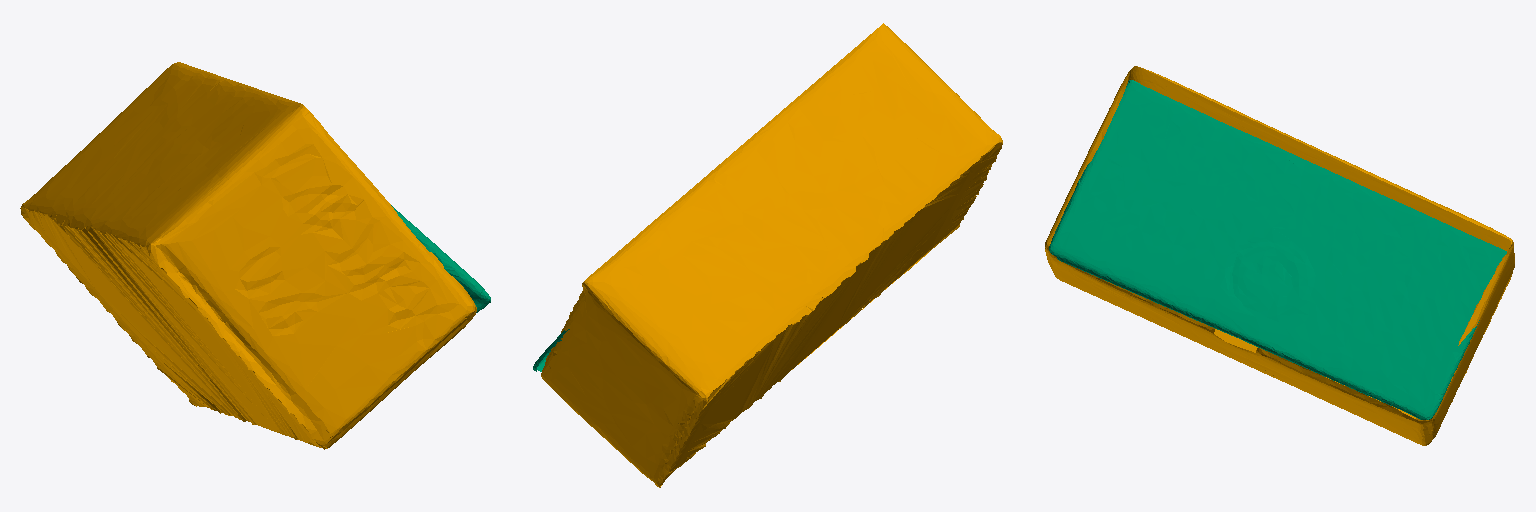
The robot description file, URDF, robot "cardboardbox":
<?xml version="1.0"?>
<robot name="cardboardbox">
  <link name ="rb0">
    <visual>
      <origin xyz='-0.027407 0.084609 -0.158119' rpy='-2.485075 -0.345284 -1.851911'/>
      <geometry>
        <mesh filename="package://articulated_objects_db/data/objects/cardboardbox/meshes/cardboardbox_bottom.obj"  scale="1 1 1" />
      </geometry>
    </visual>
  </link>
  <joint name="j_0_1" type="revolute">
    <parent link="rb0"/>
    <child link="rb1"/>
    <origin xyz="0.0727173292973 0.152698209211 -0.0507369501669" rpy="0 0 0 "/>
    <axis xyz="-0.188758123007 -0.931930406536 0.309638641601"/>
    <limit effort="30" velocity="1.0" lower="-3.1416" upper="3.1416"/>
  </joint>
  <joint name="j_0_fixed" type="fixed">
    <parent link="rb1"/>
    <child link="rb1_marker"/>
      <origin xyz="0.0706216981397 -0.0309749502435 -0.0501374327693" rpy="0.803061620927 0.273538632861 1.41417169171"/>
    <limit effort="30" velocity="1.0" lower="-3.1416" upper="3.1416"/>
  </joint>
  <link name ="rb1">
  </link>
  <link name ="rb1_marker">
    <visual>
      <origin xyz='-0.053117 0.060926 -0.123416' rpy='-1.960913 0.024341 3.019771'/>
      <geometry>
        <mesh filename="package://articulated_objects_db/data/objects/cardboardbox/meshes/cardboardbox_top.obj"  scale="1 1 1" />
      </geometry>
    </visual>
  </link>
</robot>

--- Render facts (derived) ---
The picture shows the robot from 3 angles, left to right: view 1: azimuth 30°, elevation 25°; view 2: azimuth 150°, elevation 25°; view 3: azimuth 270°, elevation 25°; orthographic projection.
Model cardboardbox with 3 links and 2 joints (1 revolute, 1 fixed), rooted at rb0, posed every joint at zero.
Visible links, largest first — view 1: rb0, rb1_marker; view 2: rb0; view 3: rb1_marker, rb0.
Boxes of the visible links, x1,y1,x2,y2 form: rb0: (20, 62, 476, 449); rb1_marker: (391, 205, 490, 312); rb0: (541, 23, 1002, 487); rb1_marker: (1049, 80, 1506, 419); rb0: (1045, 66, 1514, 445).
Size in the robot's own frame: 0.176 by 0.2404 by 0.1958 metres.
2 mesh visuals loaded from 2 distinct referenced files (2 OBJ).